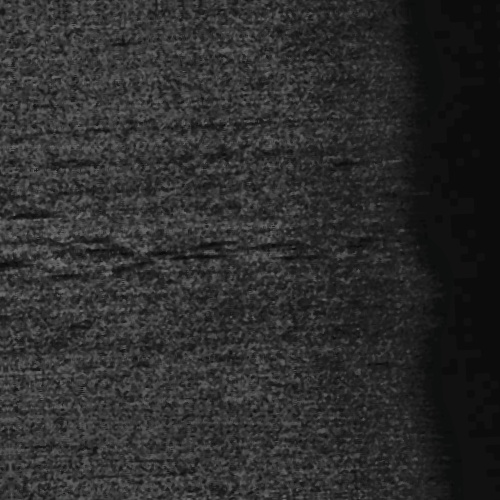object: (15, 245, 68, 254)
shadow: (0, 245, 42, 254)
